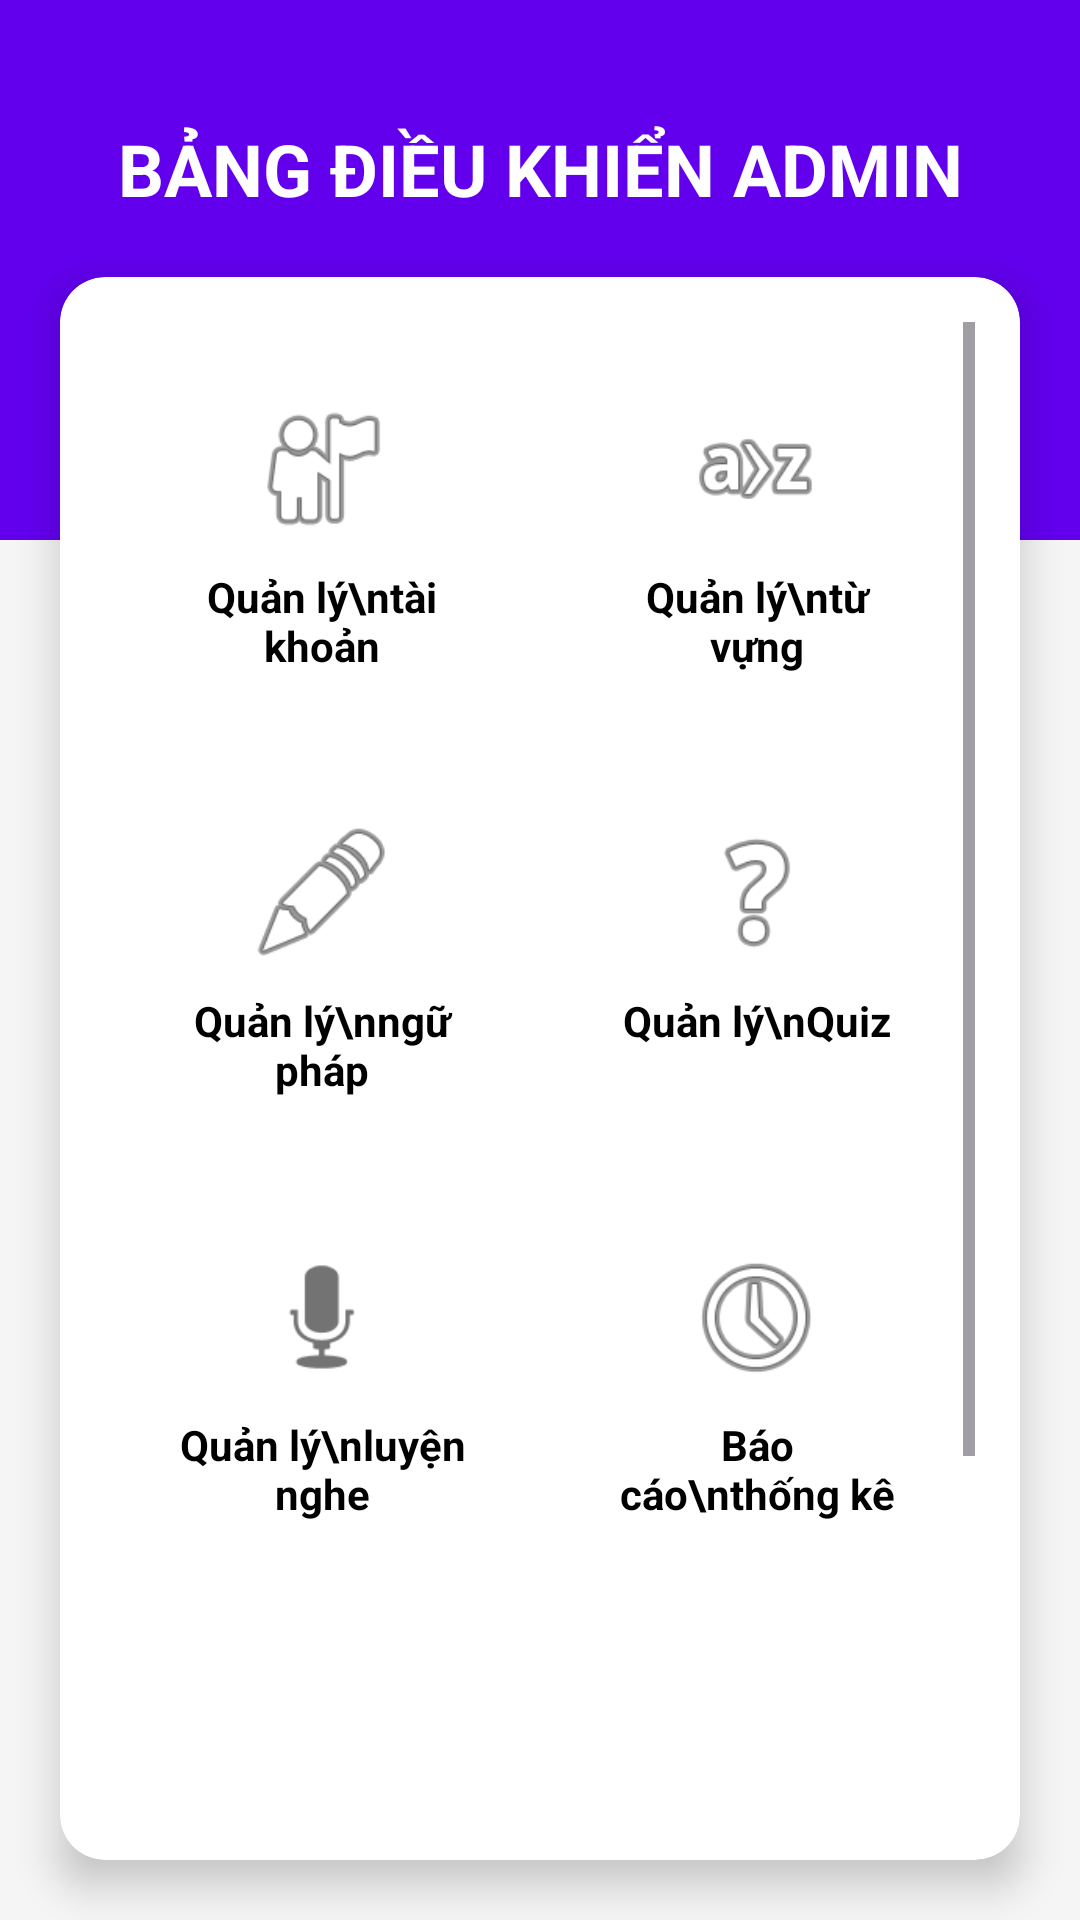

Icon bounding boxes for this 1080 x 1920 phone screenshot, format (left=x1, top=y1, right=x2, bottom=y2):
edit: (left=258, top=828, right=385, bottom=956)
help: (left=724, top=839, right=790, bottom=947)
myplaces: (left=267, top=413, right=380, bottom=525)
recent history: (left=702, top=1263, right=811, bottom=1372)
sort alphabetically: (left=699, top=439, right=812, bottom=499)
speak now: (left=289, top=1265, right=355, bottom=1369)
